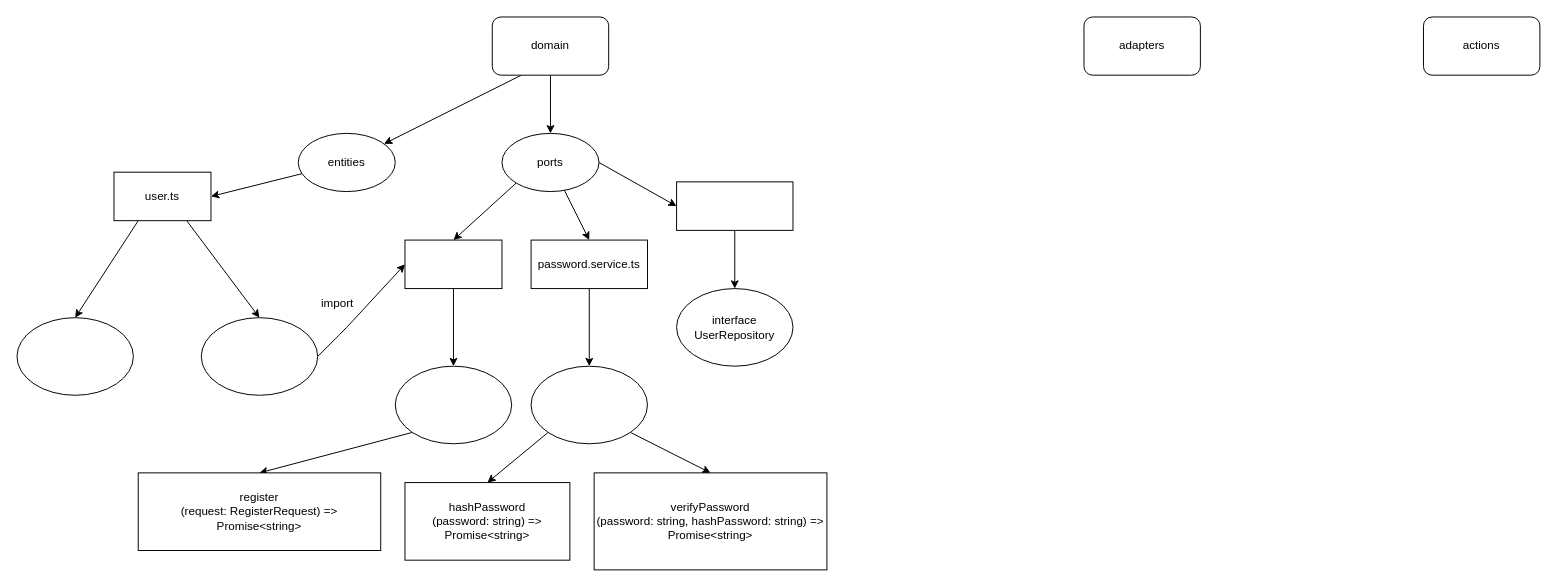
Image size: 1557x587. Some labels were removed from this diagram. The box of each missing label's shape, as (x1, y1, x2, y2) in pixels:
auth.service.ts: (404, 239, 502, 289)
interface AuthService: (394, 365, 512, 444)
interface PasswordService: (530, 365, 647, 444)
type RegisterRequest: (200, 317, 318, 395)
type User: (16, 317, 133, 395)
user.repo.ts: (676, 181, 793, 230)
